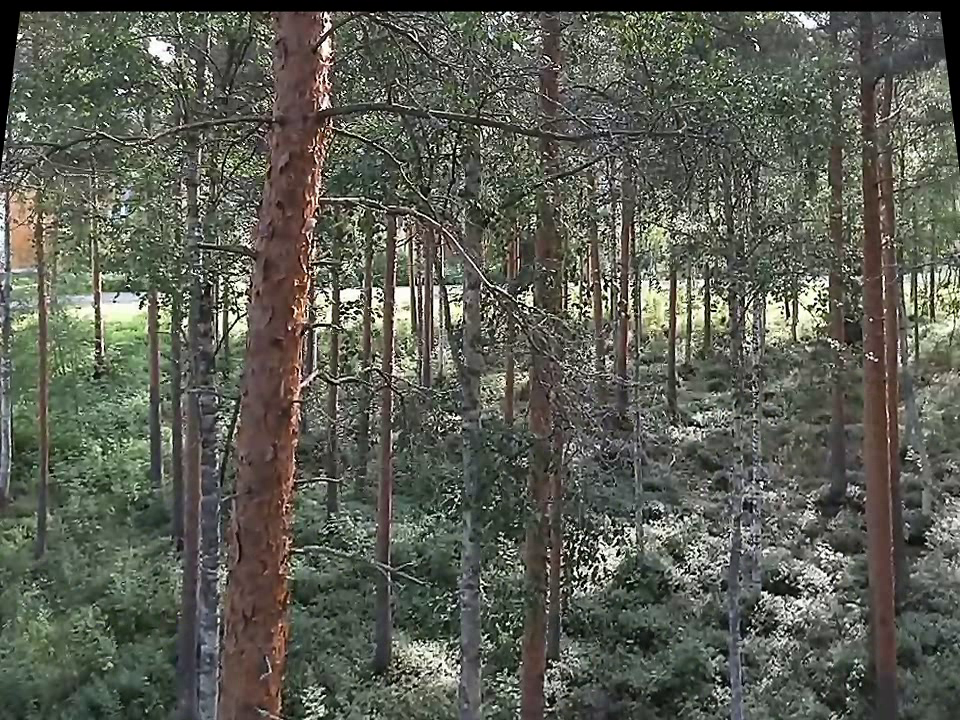branch: (329, 91, 668, 155), (23, 104, 270, 173), (322, 193, 480, 271), (297, 535, 435, 590), (315, 365, 419, 399), (189, 236, 255, 270)
trunk: (211, 23, 287, 719), (853, 37, 920, 714), (526, 206, 565, 713), (182, 283, 218, 712), (456, 226, 486, 716), (371, 220, 401, 670), (724, 320, 755, 715), (26, 204, 59, 569), (608, 189, 636, 436), (581, 185, 611, 359), (142, 286, 168, 483), (87, 231, 112, 369), (664, 271, 684, 416), (698, 273, 718, 357)
